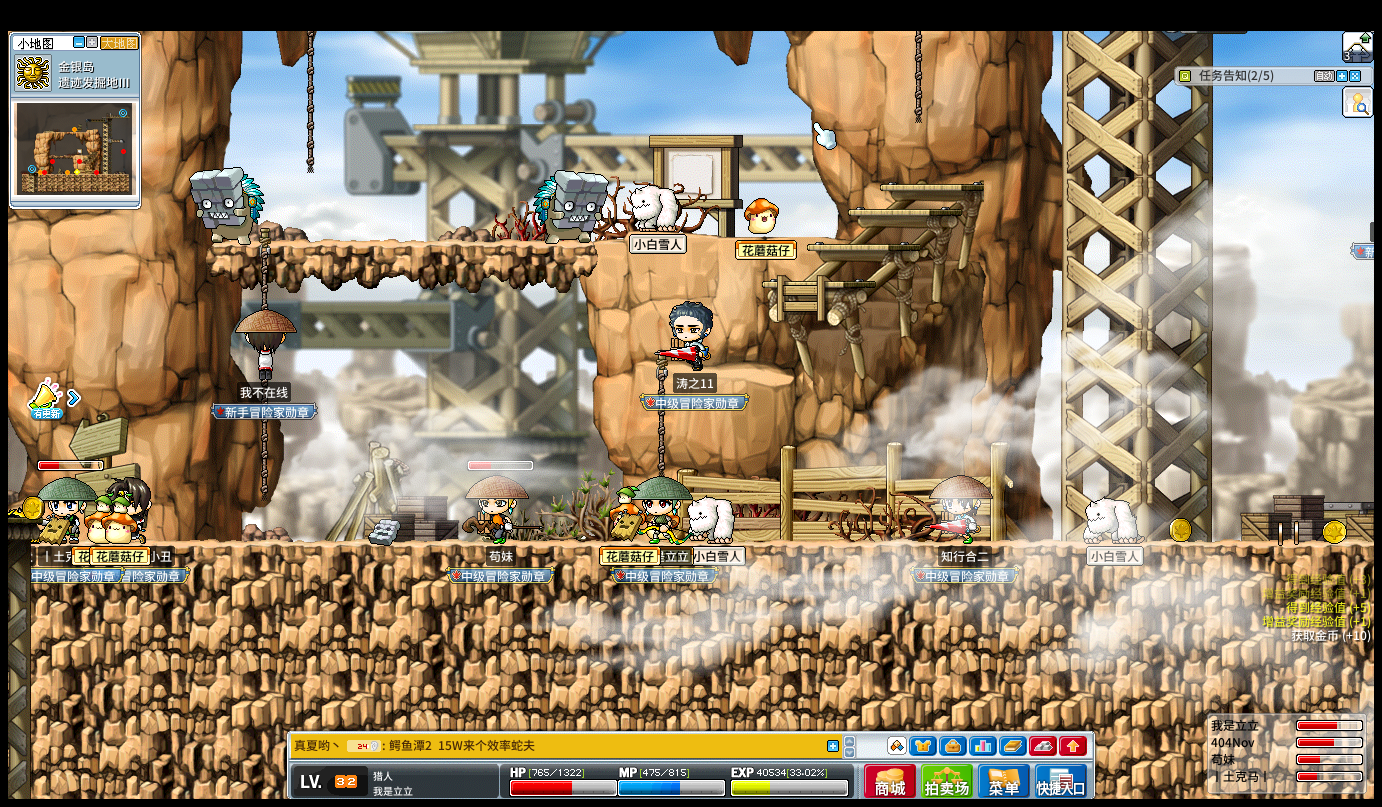floor: (31, 538, 1373, 557), (218, 237, 593, 249), (677, 365, 795, 384), (711, 235, 844, 244), (757, 280, 875, 289), (847, 207, 957, 215), (877, 184, 984, 192), (808, 243, 925, 250), (6, 517, 42, 524)
monster: (189, 167, 264, 245), (534, 168, 608, 244)
rope: (302, 33, 314, 171), (257, 420, 269, 504), (913, 31, 924, 122), (256, 231, 267, 308), (656, 396, 666, 476)
